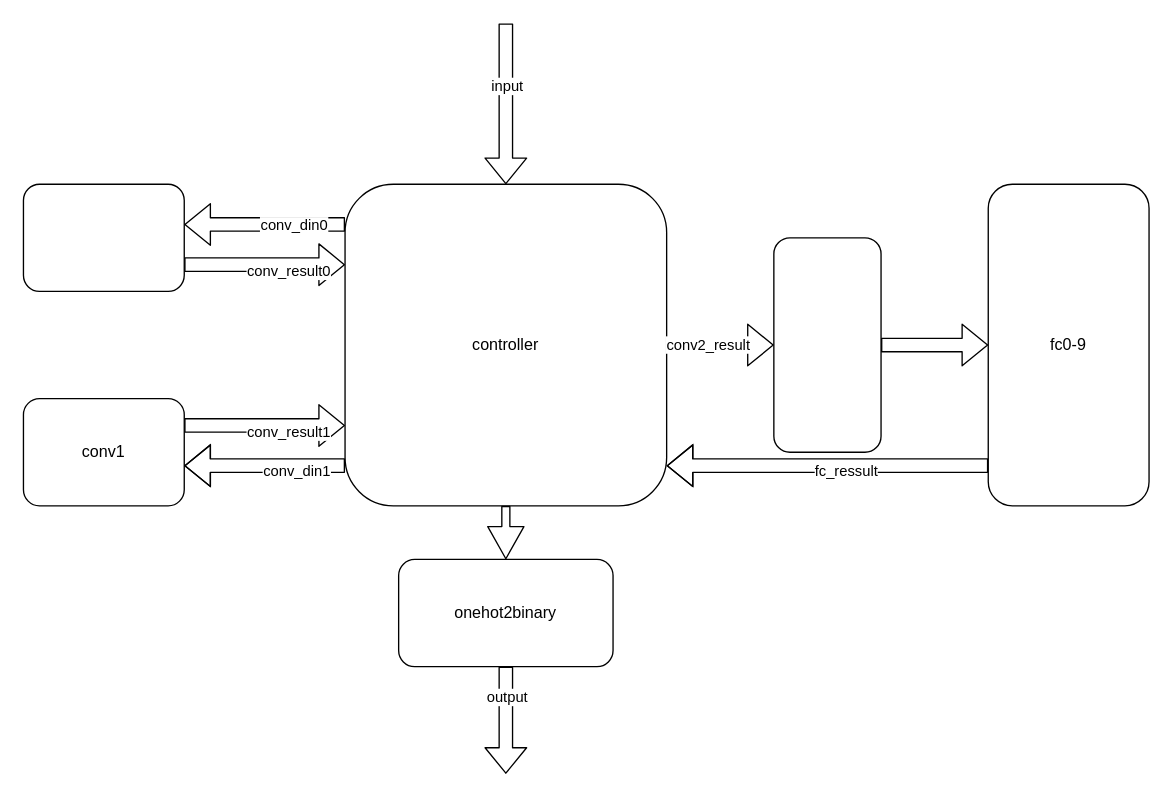
Image size: 1173x796. Some labels were removed from this diagram. Each missing label, with the centre of its shape:
"conv0" goes at point (103, 237).
"maxpool" goes at point (827, 344).
